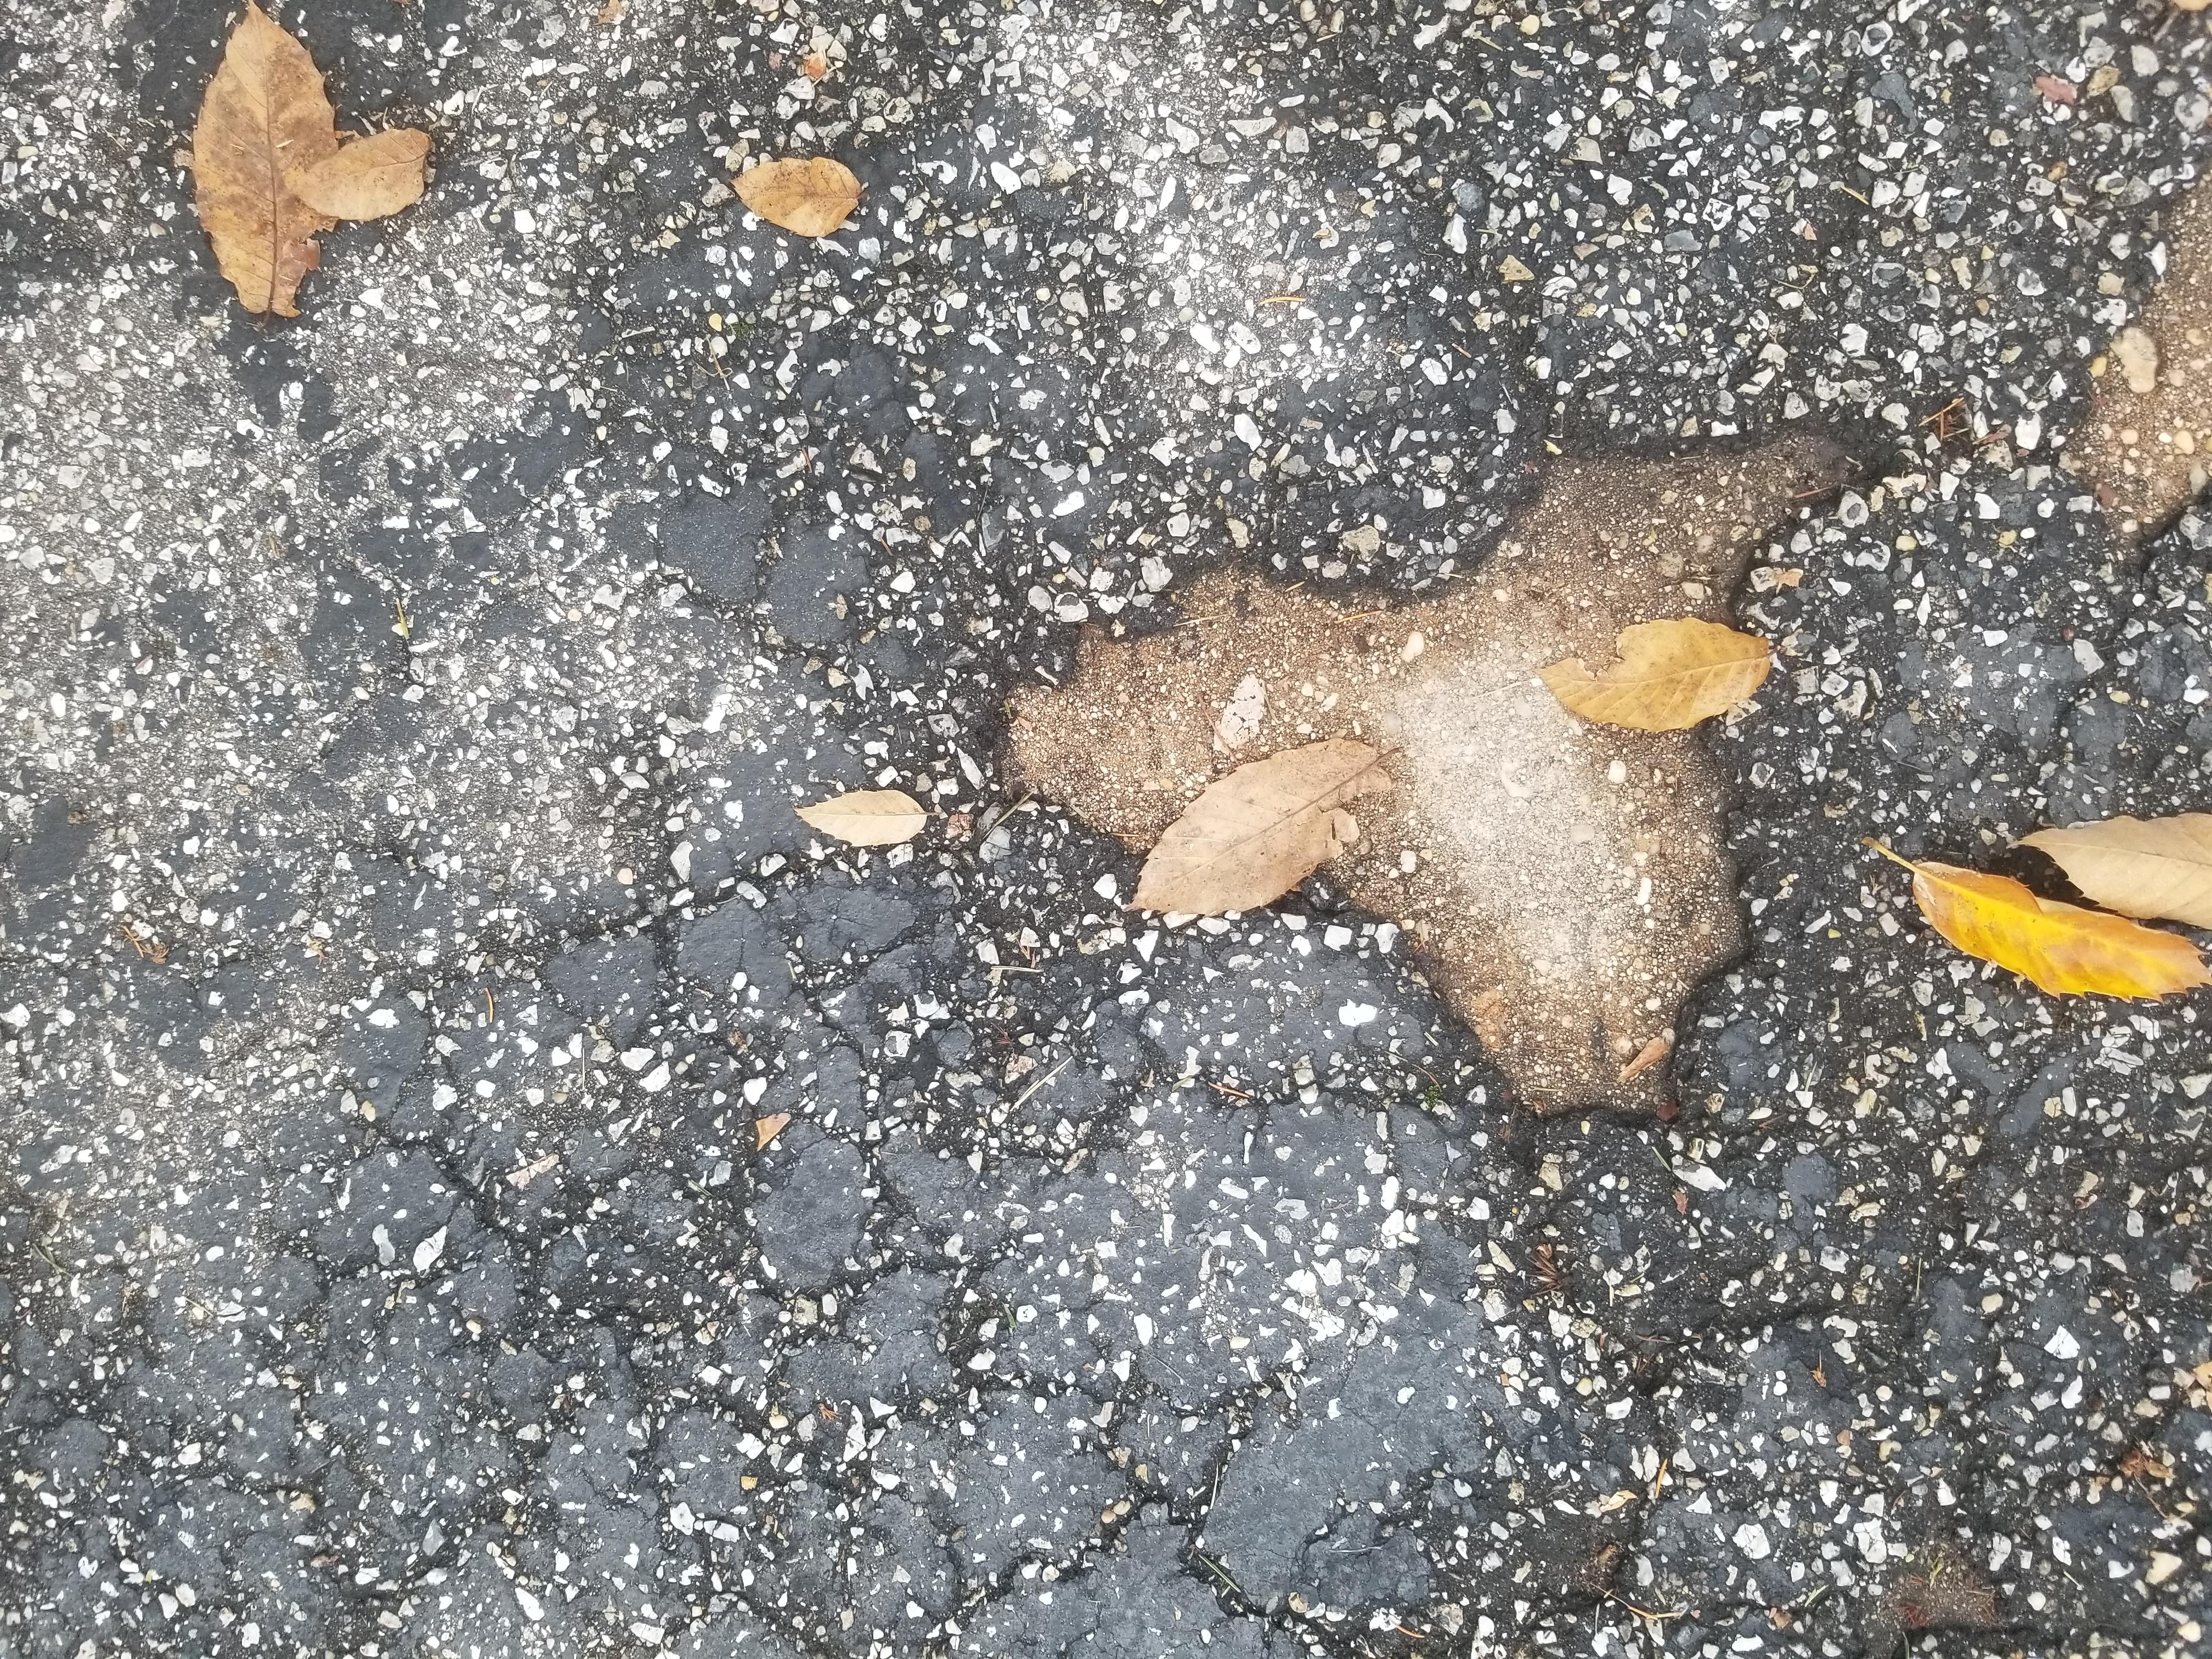alligator-crack: (0, 91, 691, 1112)
pothole: (712, 727, 1832, 1502), (1463, 1553, 2055, 1659)
